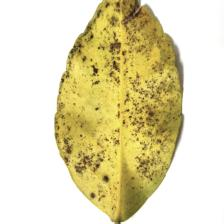canker: (94, 38, 174, 144)
